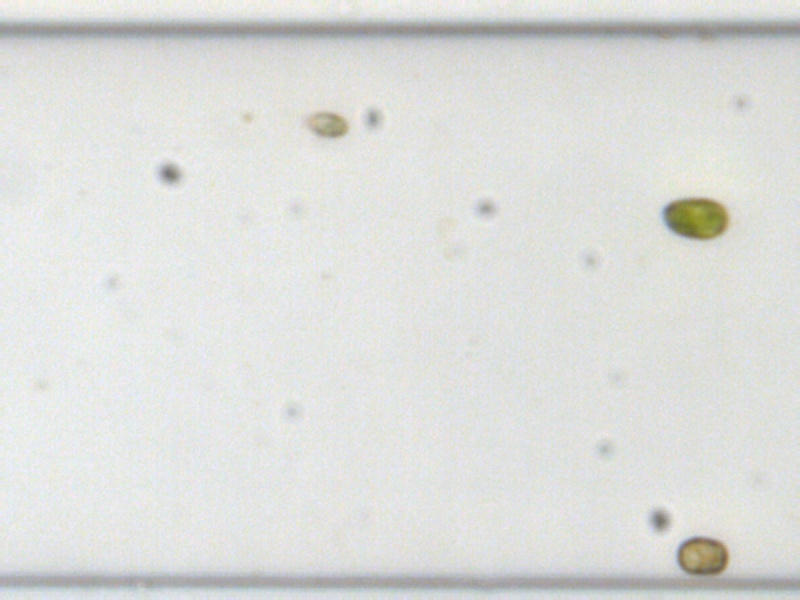Dunaliella salina: (300, 110, 348, 138)
Effrenium: (678, 534, 728, 574)
Platymonas: (657, 197, 728, 239)
